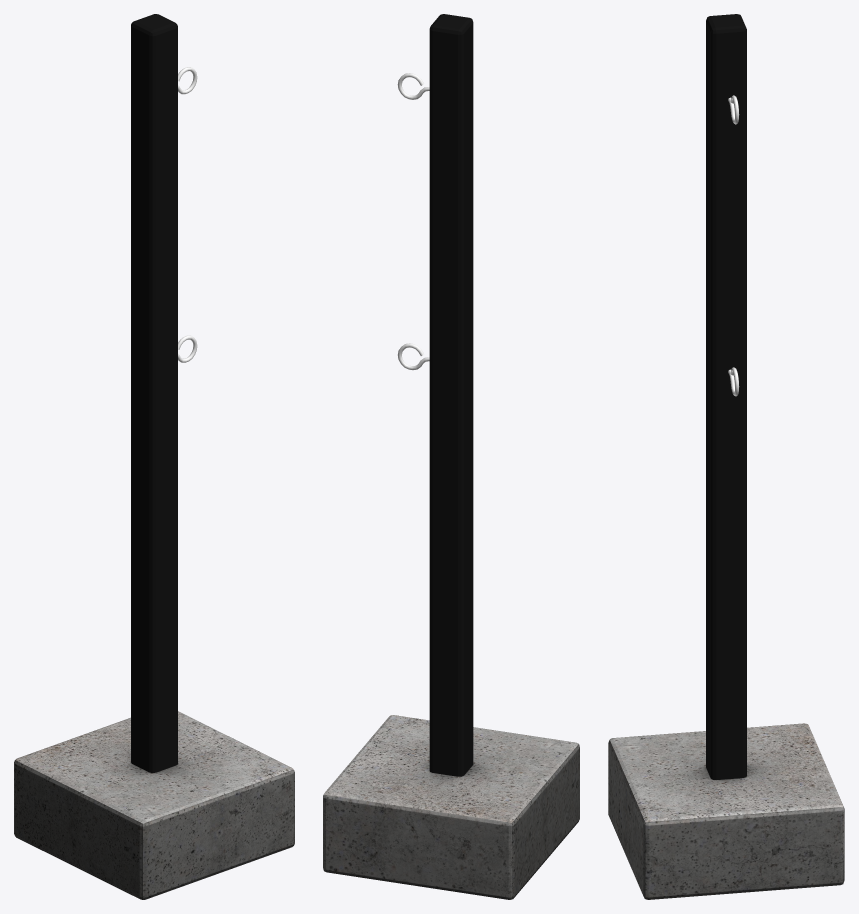
Rendered from PARANTES.glb.
The picture shows the model from 3 angles, left to right: view 1: azimuth 30°, elevation 25°; view 2: azimuth 150°, elevation 25°; view 3: azimuth 270°, elevation 25°; orthographic projection.
Visible parts, largest first — view 1: Cube.005, Cube.019; view 2: Cube.005, Cube.019; view 3: Cube.005, Cube.019.
Boxes of the visible parts, x1,y1,x2,y2 form: Cube.005: (14,711,294,899); Cube.019: (131,14,177,772); Cube.005: (323,715,579,899); Cube.019: (429,14,473,776); Cube.005: (608,723,844,899); Cube.019: (706,14,746,779).
Size of the model in its own units: 2.31 by 8.96 by 2.31.
Materials: 3 (1 with a texture image).
